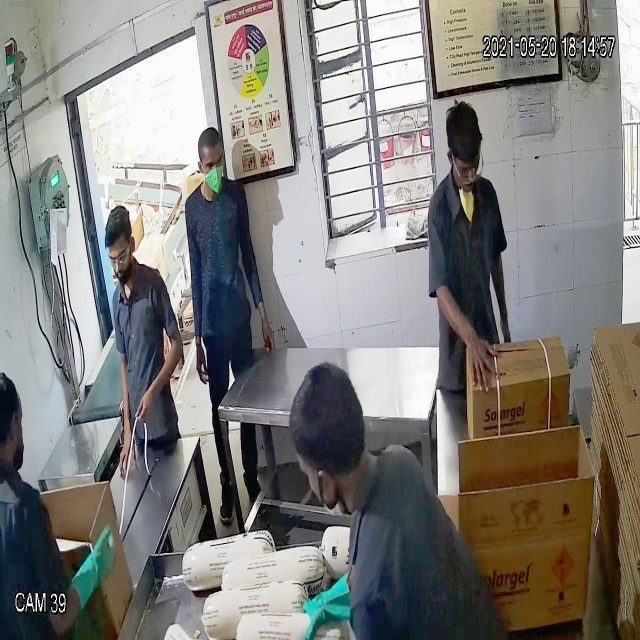Gafas: (448, 148, 488, 187), (105, 243, 133, 274)
Sin_gafas: (195, 148, 227, 174)
